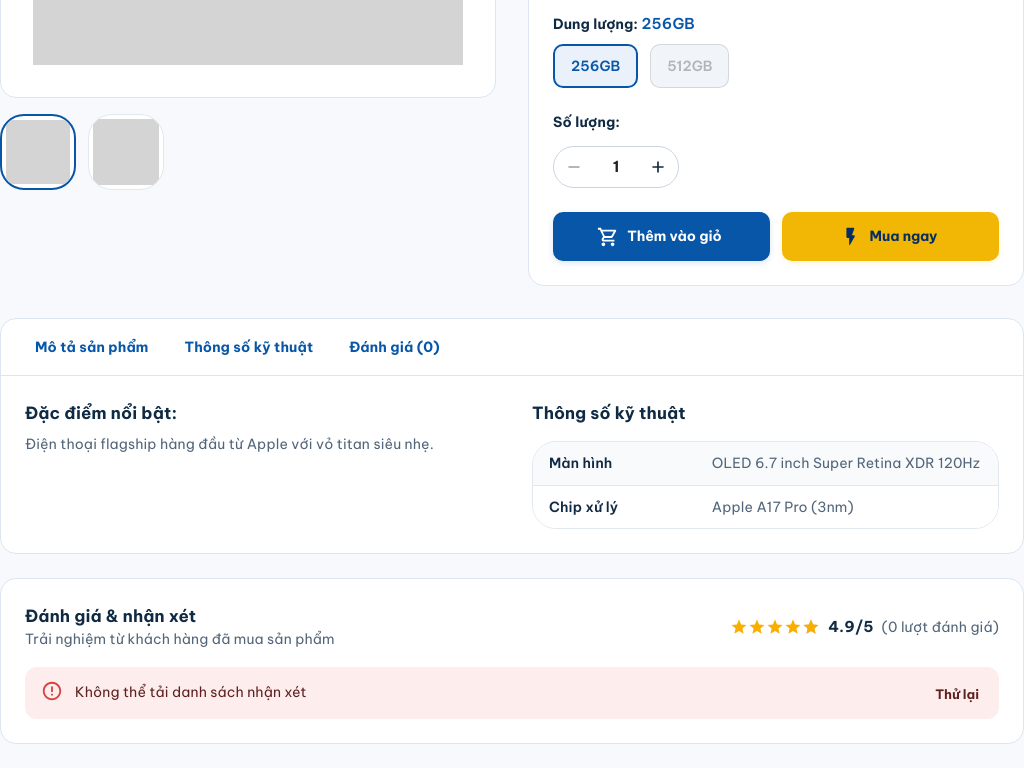
Test: US-06.1: ProductDetailPage - Xem trang chi tiết sản phẩm › shows a retryable error when loading product reviews fails
(page scrolled)
Expected: the text "Không thể tải danh sách nhận xét" is shown, [75, 683, 307, 701]
Click the button "Thử lại" at (957, 695), box [923, 677, 991, 713]
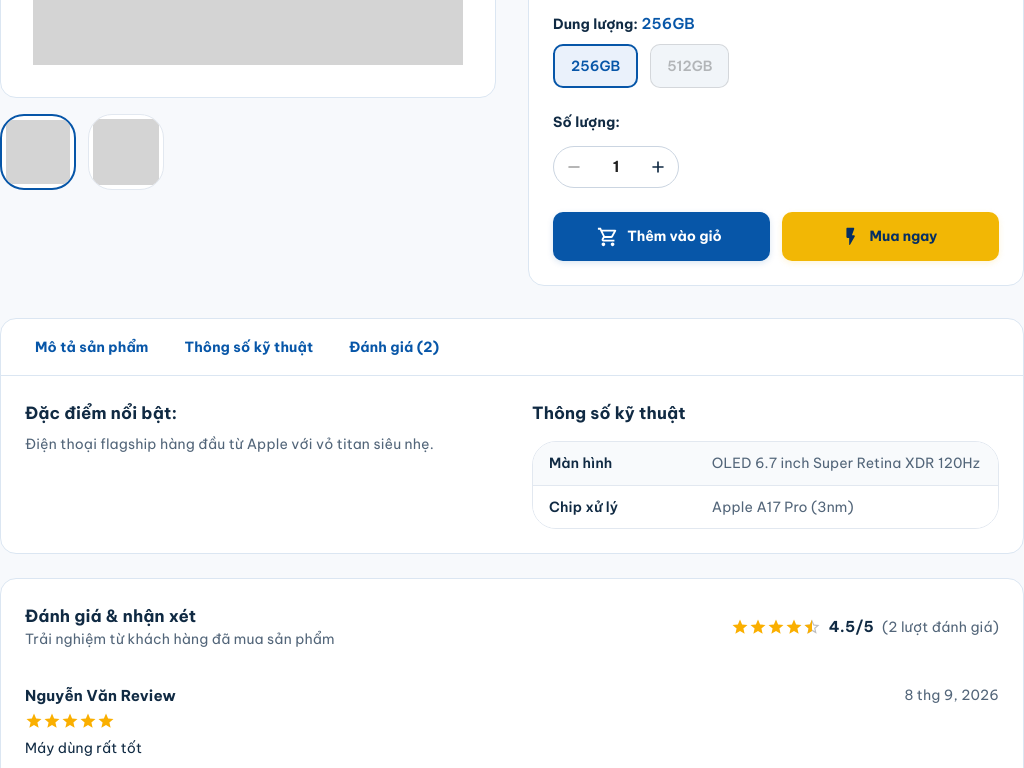
Now the text "Máy dùng rất tốt" is shown, box [25, 739, 142, 757]
